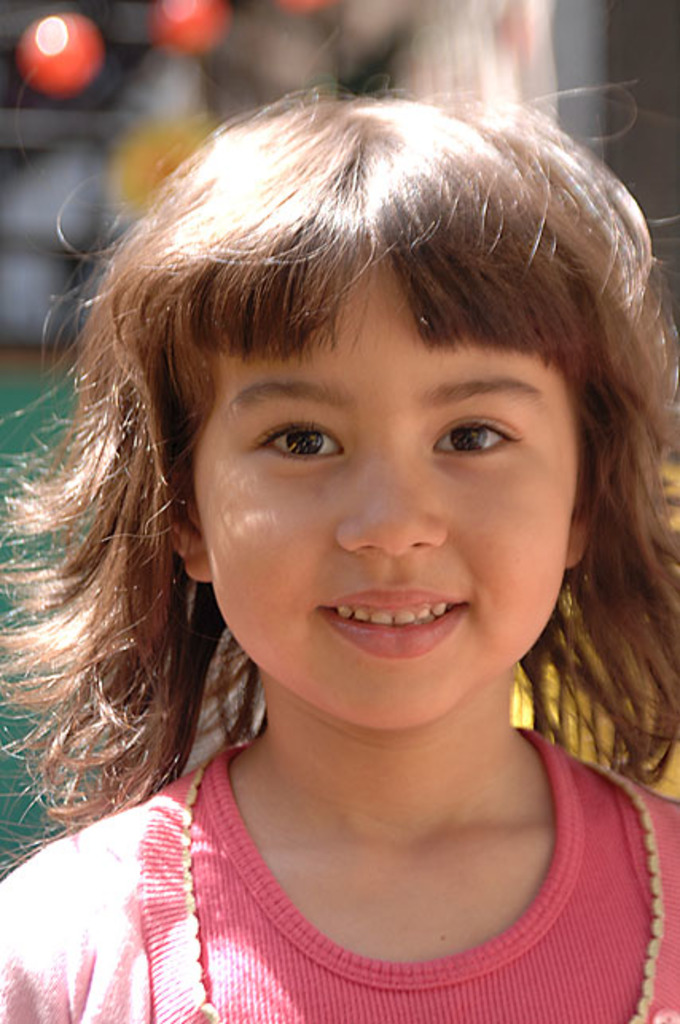person: (331, 0, 561, 128)
